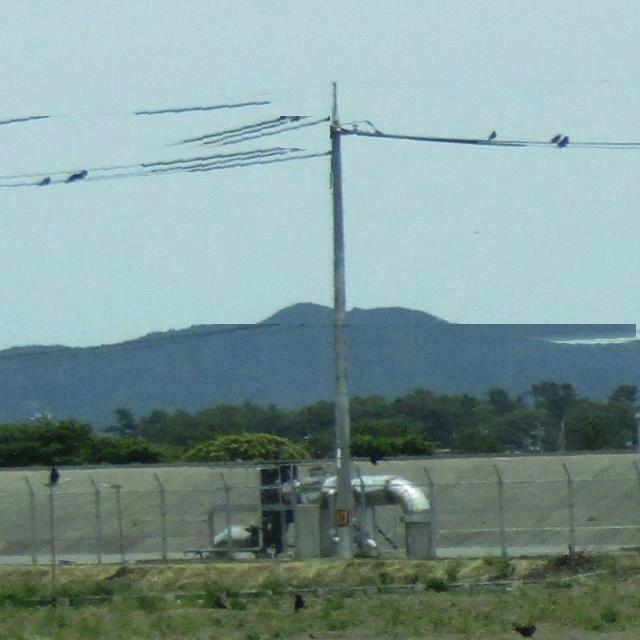pole: (330, 86, 357, 561)
wire: (1, 116, 289, 180), (0, 324, 366, 366), (0, 148, 333, 189), (0, 91, 335, 125)
